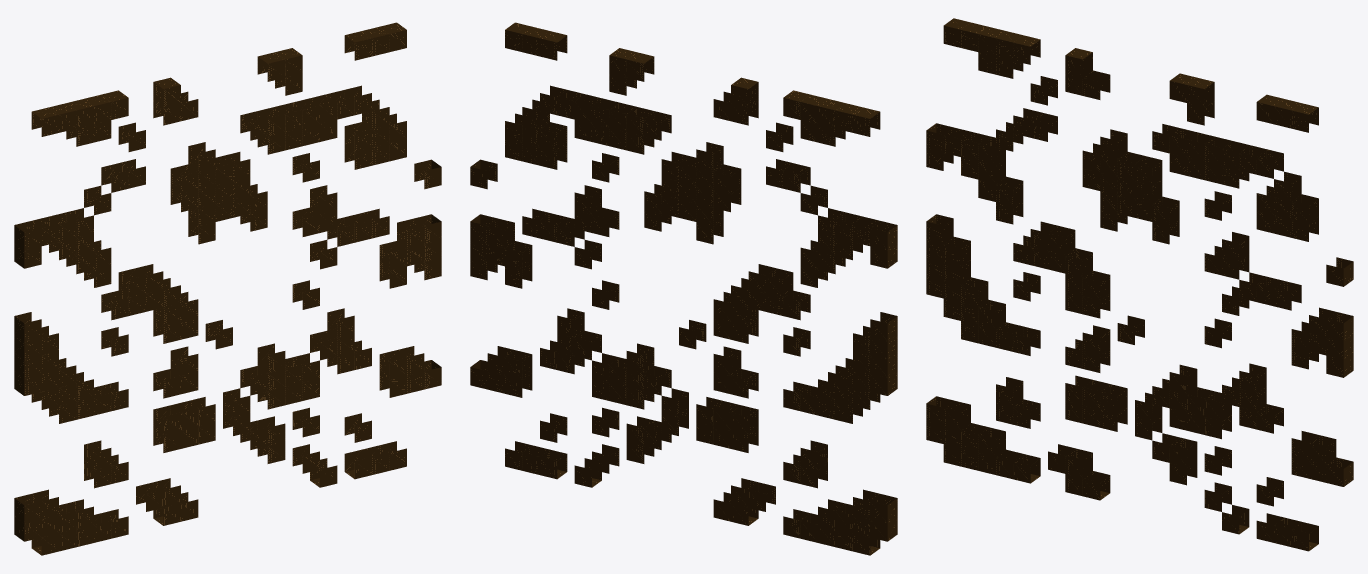
3 renders of one model, left to right at view 1: azimuth 30°, elevation 25°; view 2: azimuth 150°, elevation 25°; view 3: azimuth 330°, elevation 25°, orthographic.
Size of the model in its own units: 2.4 by 2.4 by 0.1.
